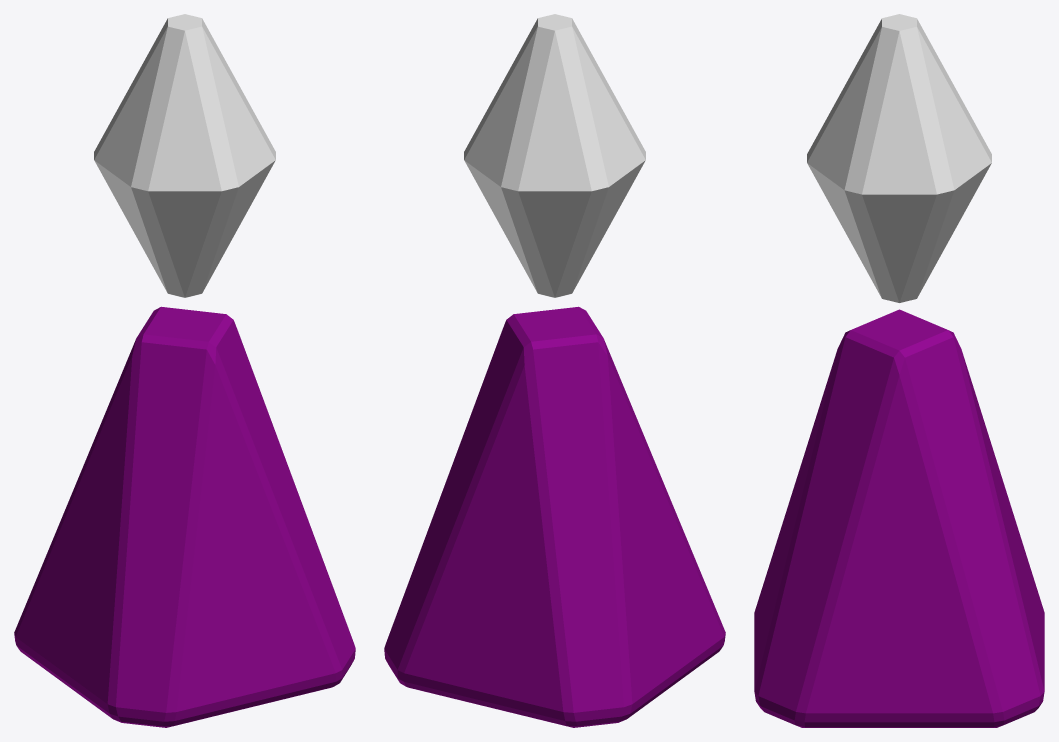
Rendered from bishop.glb.
3 renders of one model, left to right at view 1: azimuth 30°, elevation 25°; view 2: azimuth 150°, elevation 25°; view 3: azimuth 270°, elevation 25°, orthographic.
Visible parts, largest first — view 1: Cube, Cone; view 2: Cube, Cone; view 3: Cube, Cone.
Boxes of the visible parts, left/top/right/bottom form: Cube: left=14, top=306, right=355, bottom=727; Cone: left=94, top=14, right=275, bottom=297; Cube: left=384, top=306, right=725, bottom=727; Cone: left=464, top=14, right=645, bottom=297; Cube: left=754, top=309, right=1044, bottom=727; Cone: left=807, top=14, right=991, bottom=302.
Size of the model in its own units: 0.767 by 1.9 by 0.767.
